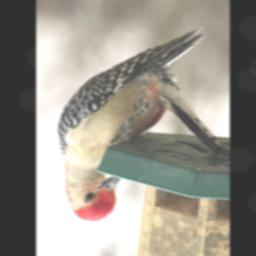Woodpecker: (59, 21, 209, 222)
